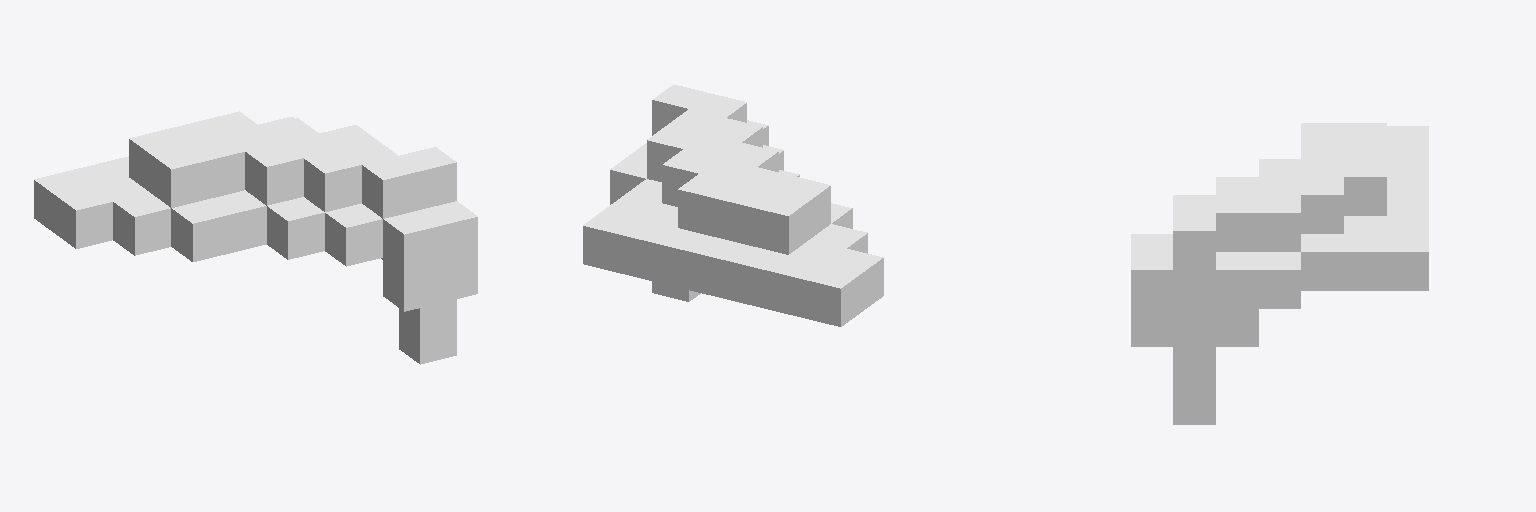
File: hair02.obj
3 renders of one model, left to right at view 1: azimuth 30°, elevation 25°; view 2: azimuth 150°, elevation 25°; view 3: azimuth 270°, elevation 25°, orthographic.
Parts seen in each view (by area): view 1: object 1; view 2: object 1; view 3: object 1.
Part boxes in pixels (left/top/right/bottom): object 1: left=34, top=111, right=477, bottom=364; object 1: left=583, top=84, right=883, bottom=326; object 1: left=1131, top=123, right=1428, bottom=424.
Size of the model in its own units: 0.8 by 0.5 by 0.7.